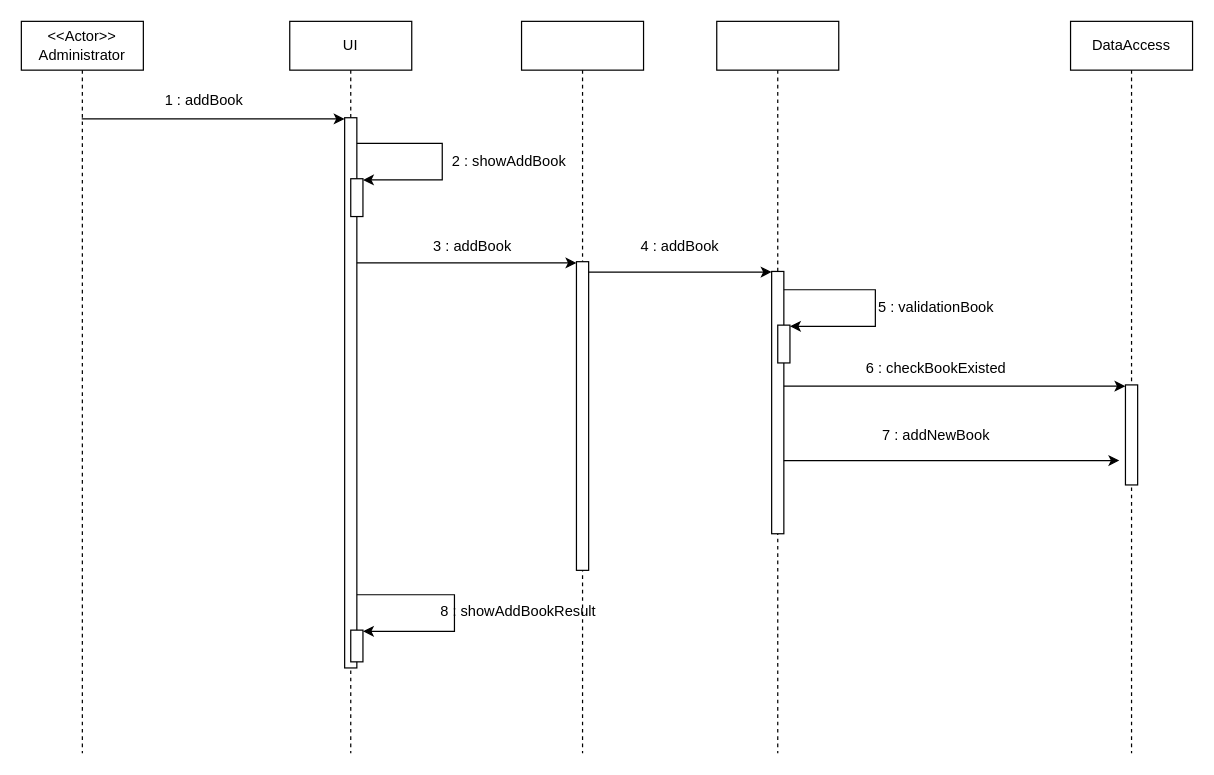
This 1214x775 diagram has some shape labels left out. The box of each missing label's shape, as (x1, y1, x2, y2) in pixels:
Book: (716, 20, 839, 753)
SystemController: (520, 20, 644, 753)
